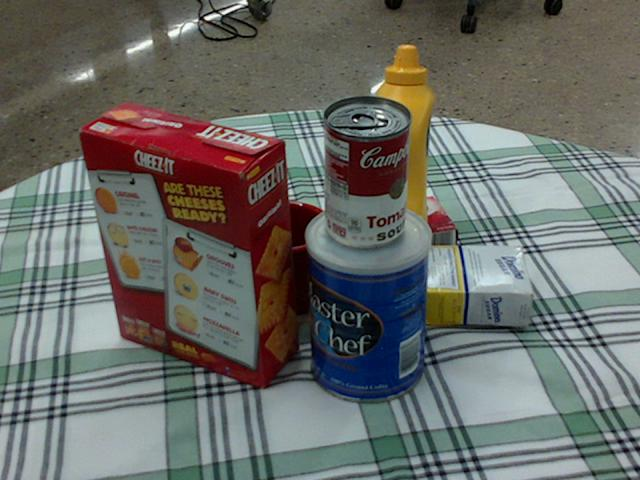cracker_box: (75, 104, 299, 386)
gelatin_box: (358, 196, 455, 262)
master_chef_can: (305, 201, 431, 402)
mug: (234, 202, 331, 316)
mustard_bottle: (371, 46, 432, 248)
potted_meat_can: (152, 205, 252, 291)
sugar_box: (344, 243, 534, 323)
tomato_soup_can: (320, 95, 408, 247)
tuna_fish_can: (166, 177, 253, 249)
